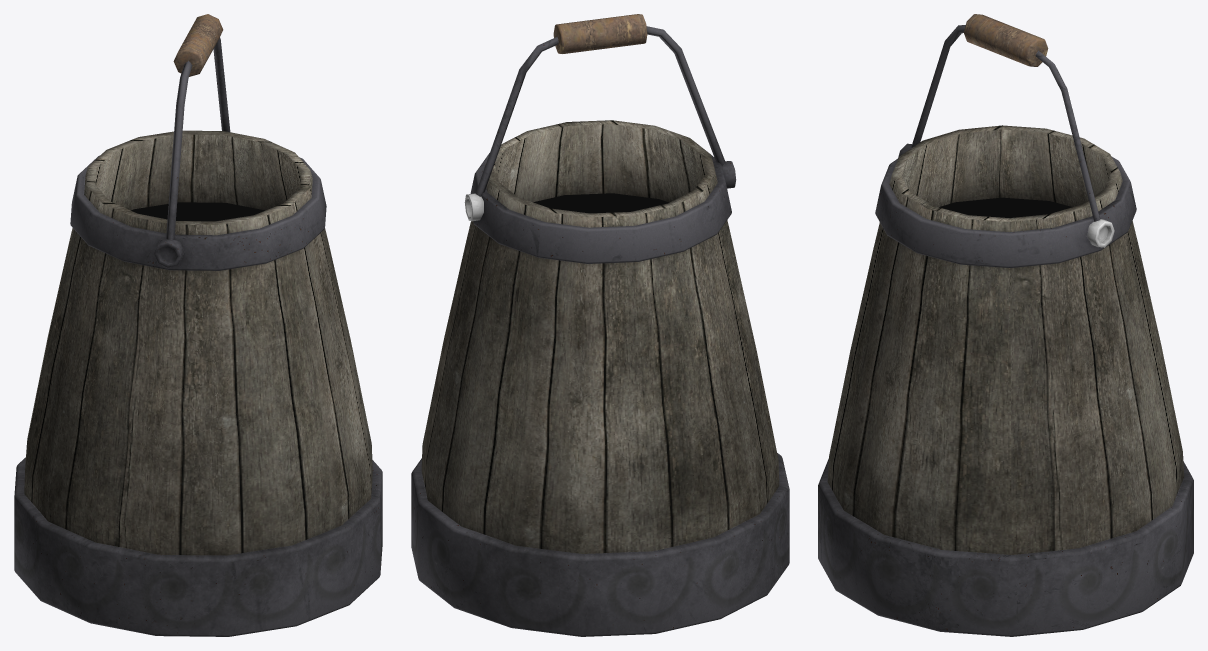
The model's file is bucket.glb.
3 renders of one model, left to right at view 1: azimuth 30°, elevation 25°; view 2: azimuth 150°, elevation 25°; view 3: azimuth 270°, elevation 25°, orthographic.
Visible parts, largest first — view 1: bucket; view 2: bucket; view 3: bucket.
Boxes of the visible parts, x1,y1,x2,y2 form: bucket: (14, 14, 382, 636); bucket: (411, 14, 789, 636); bucket: (818, 14, 1193, 636).
Size of the model in its own units: 0.4041 by 0.6317 by 0.4041.
1 material, 1 textured.
